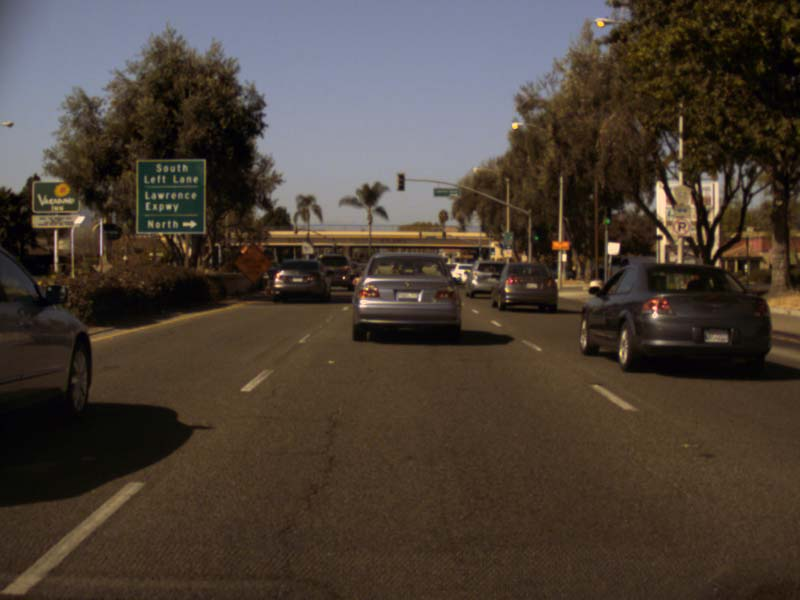Green: (604, 207, 610, 224)
